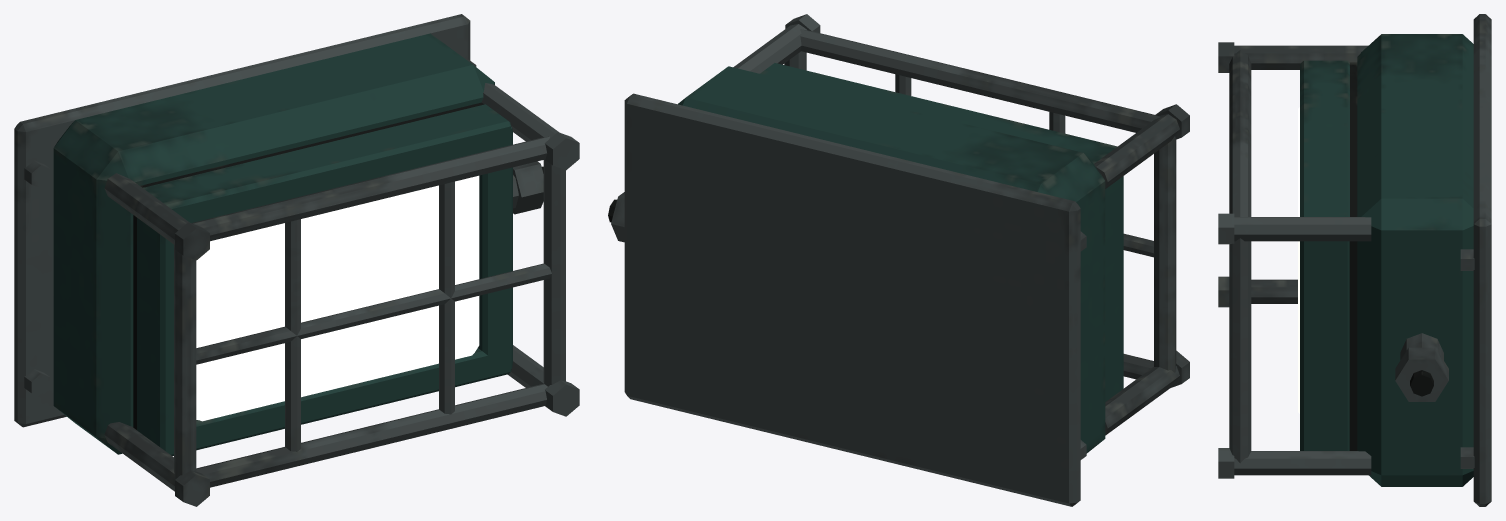
Rendered from bulkhead_light.glb.
3 views of the same model, side by side, from view 1: azimuth 30°, elevation 25°; view 2: azimuth 150°, elevation 25°; view 3: azimuth 270°, elevation 25° (orthographic). The views are drawn at different scales.
Visible parts, largest first — view 1: bulkhead_light; view 2: bulkhead_light; view 3: bulkhead_light.
Boxes of the visible parts, box(x1,y1,x2,y2) form: bulkhead_light: box(14, 14, 579, 506); bulkhead_light: box(608, 14, 1189, 506); bulkhead_light: box(1218, 14, 1491, 506).
Bounding box in the file's own units: 0.5485 × 0.32 × 0.275.
Materials: 2 (1 with a texture image).
